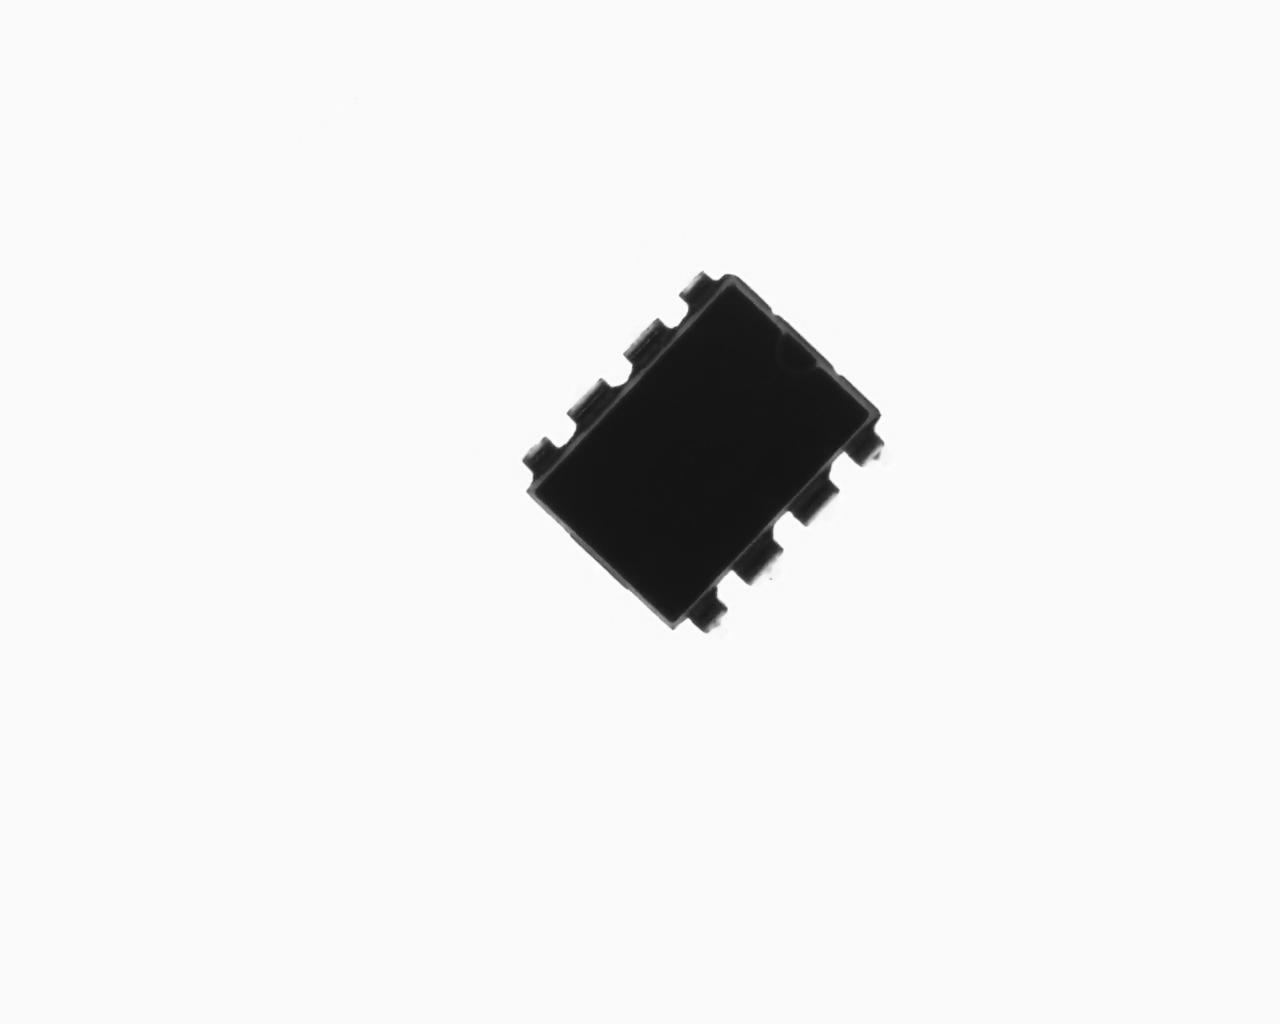Leg: (552, 375, 629, 421), (688, 585, 737, 652), (734, 532, 788, 590), (787, 480, 843, 531), (609, 316, 673, 358), (850, 430, 895, 469), (671, 266, 714, 307), (516, 435, 564, 469)
